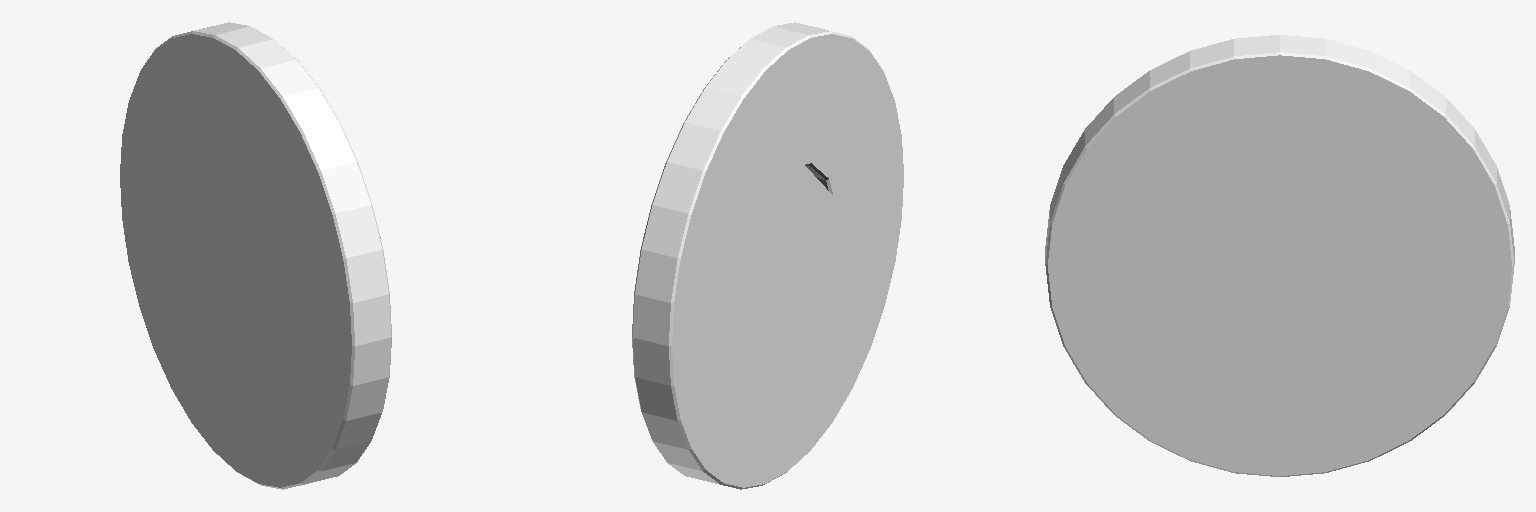
Rendered from Kugellager-hinten-2.obj.
3 views of the same model, side by side, from view 1: azimuth 30°, elevation 25°; view 2: azimuth 150°, elevation 25°; view 3: azimuth 270°, elevation 25° (orthographic).
Parts seen in each view (by area): view 1: Circle.013; view 2: Circle.013; view 3: Circle.013.
Boxes of the visible parts, box(x1,y1,x2,y2) form: Circle.013: box(120, 22, 391, 489); Circle.013: box(632, 22, 903, 489); Circle.013: box(1045, 35, 1514, 476).
Size of the model in its own units: 0.0064 by 0.0646 by 0.0646.